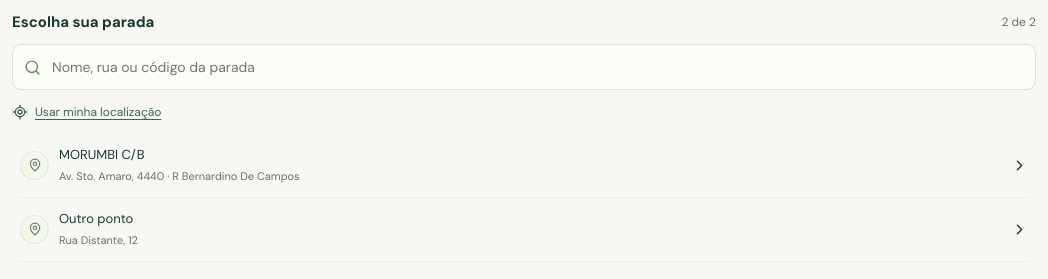
Scenario: permite localizar pelo código do ponto e limpar o filtro
Type "150015739" into the field named "Buscar parada nesta linha" at (537, 67), box [50,45,1024,89]
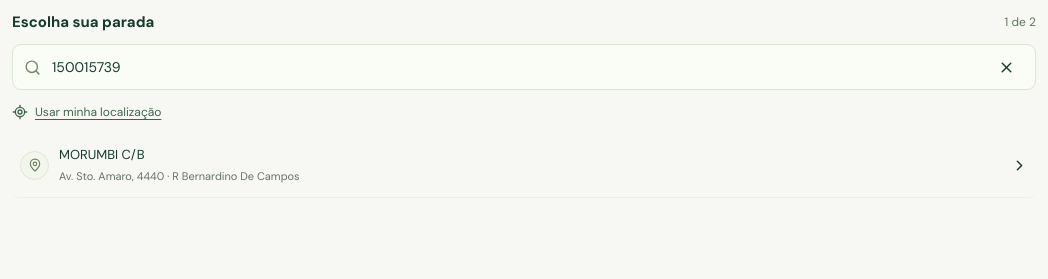
Expected: the button "MORUMBI C/B Av. Sto. Amaro, 4440 · R Bernardino De Campos" is shown, [12,134,1036,198]
Expected: the button "Outro ponto" is gone
Click the button named "Limpar busca de paradas" at (1006, 67), box [988,45,1024,89]
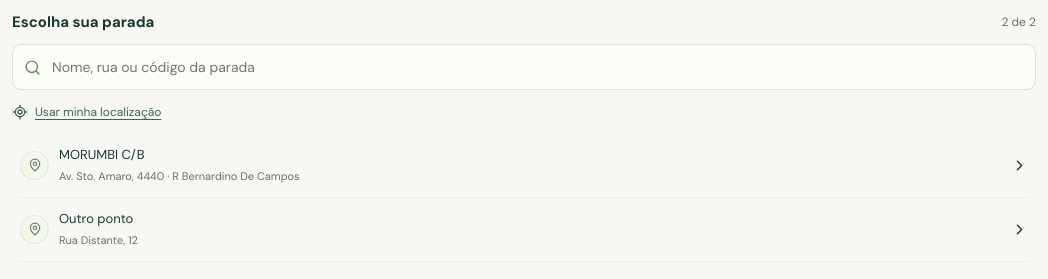
Expected: the button "Outro ponto Rua Distante, 12" is shown, [12,198,1036,262]
